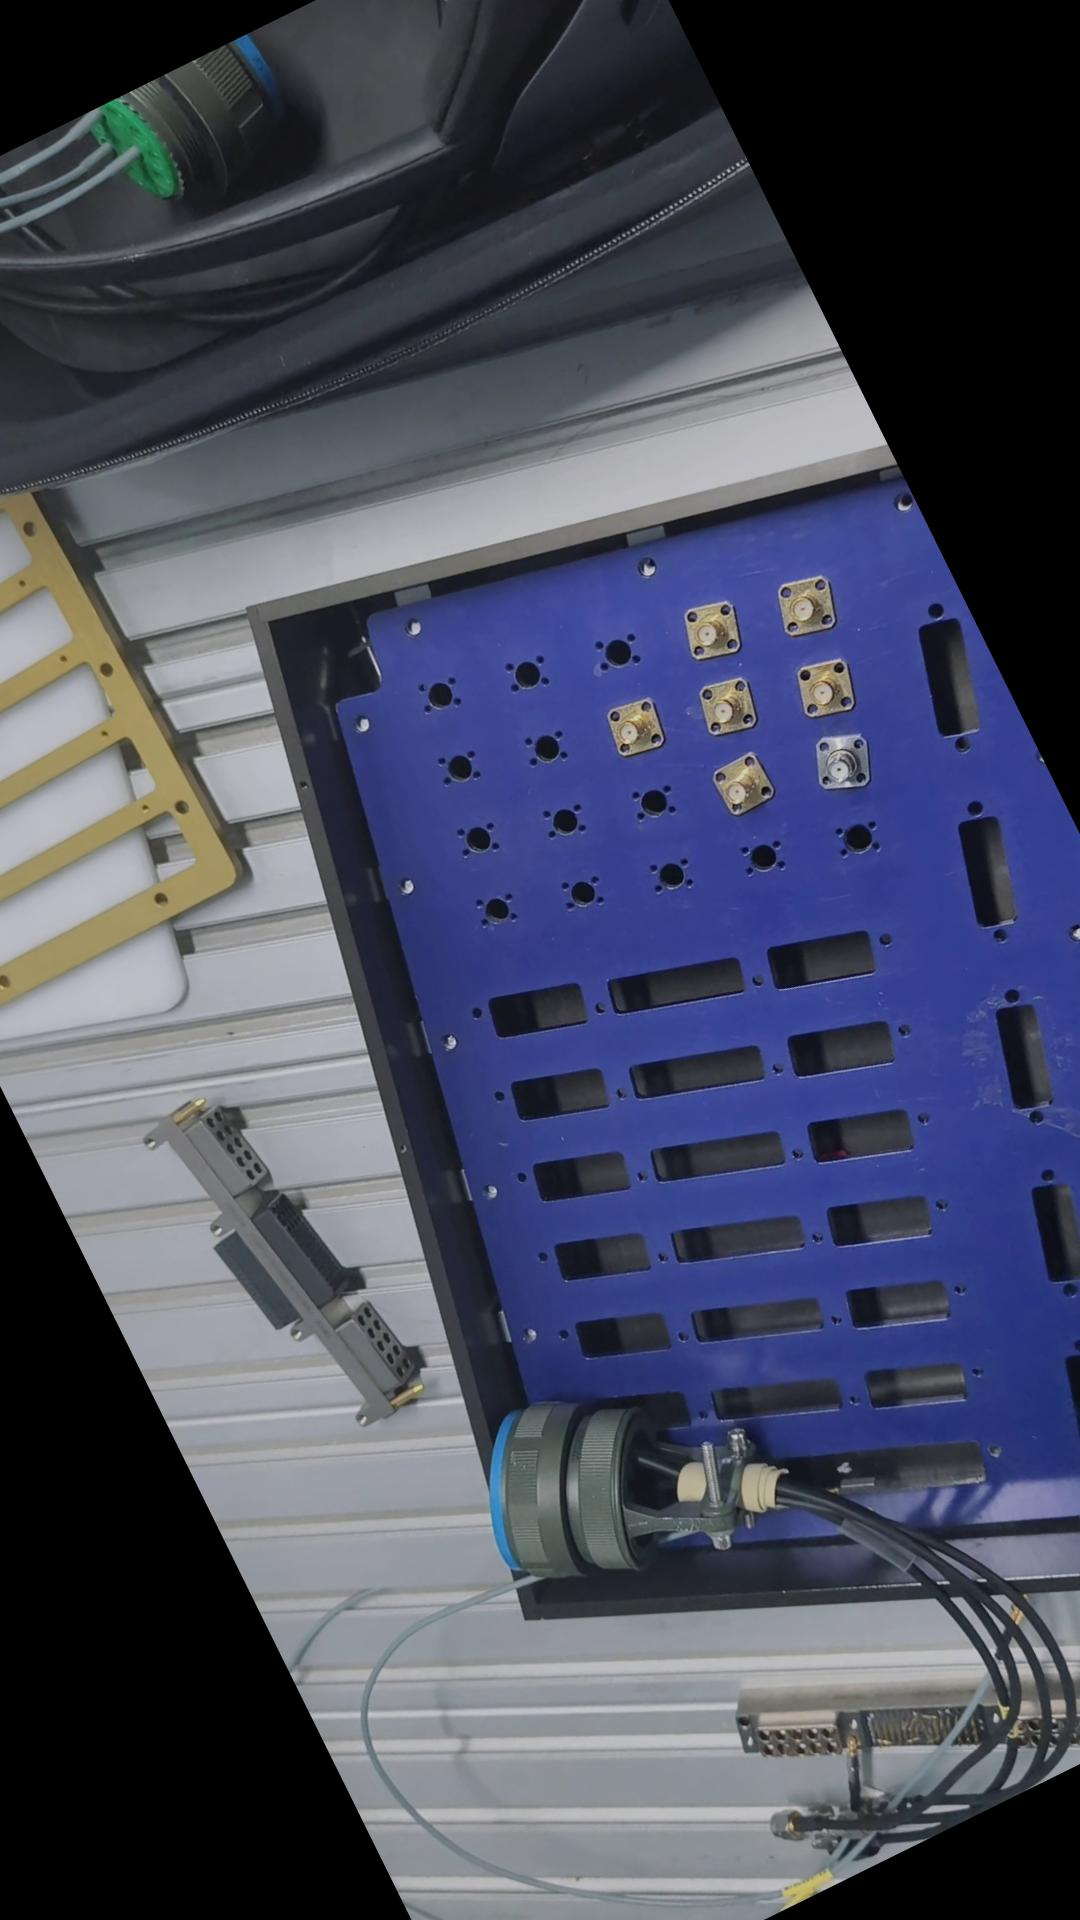SMA: (666, 591, 753, 675), (760, 564, 847, 647), (696, 745, 781, 829), (785, 653, 866, 732), (589, 688, 673, 766), (800, 723, 878, 800), (688, 673, 764, 746)
